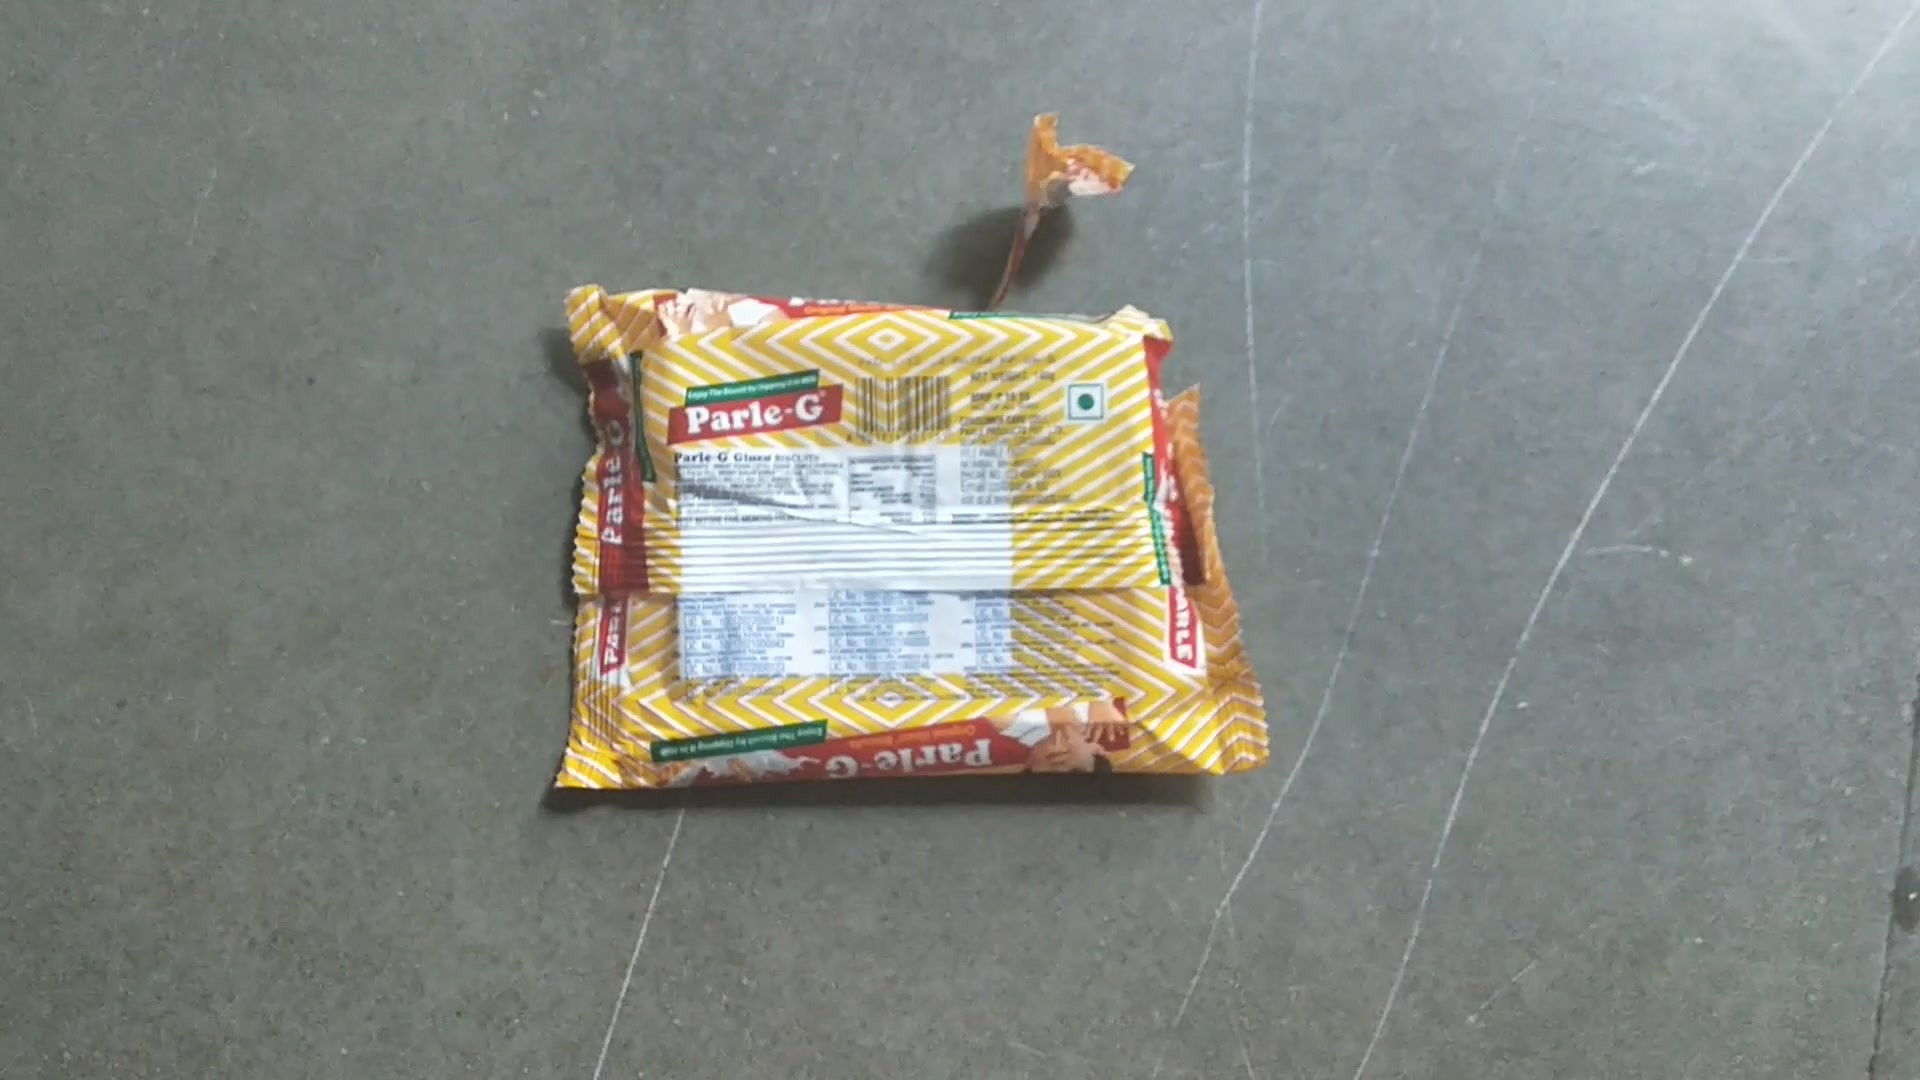parle-g-b: (593, 323, 1160, 775)
